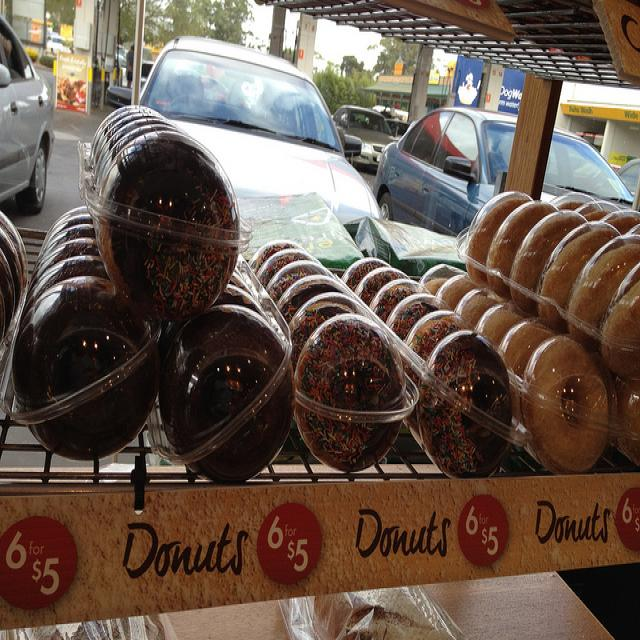Vehicle: (135, 32, 383, 236), (375, 104, 636, 234), (2, 7, 52, 211), (334, 102, 400, 168), (616, 158, 640, 196), (372, 104, 408, 122), (140, 62, 154, 89)
